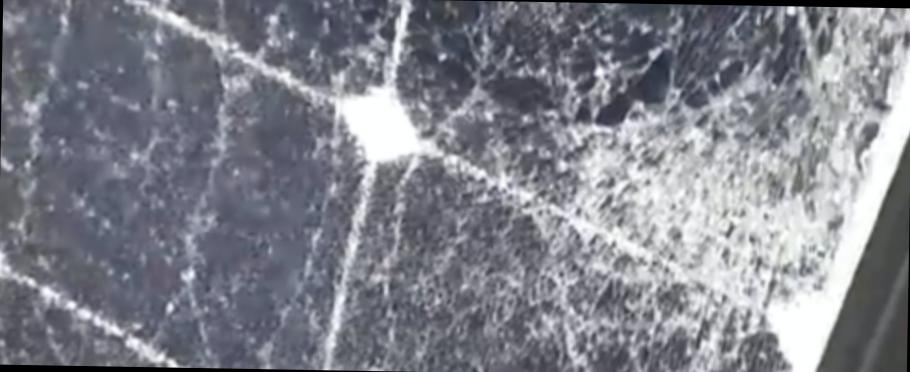Crack: (482, 0, 909, 371)
